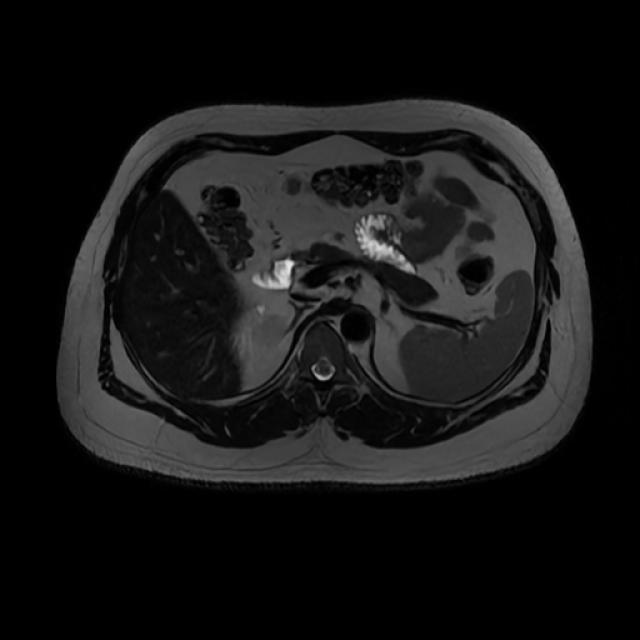sag: (252, 314, 284, 345)
